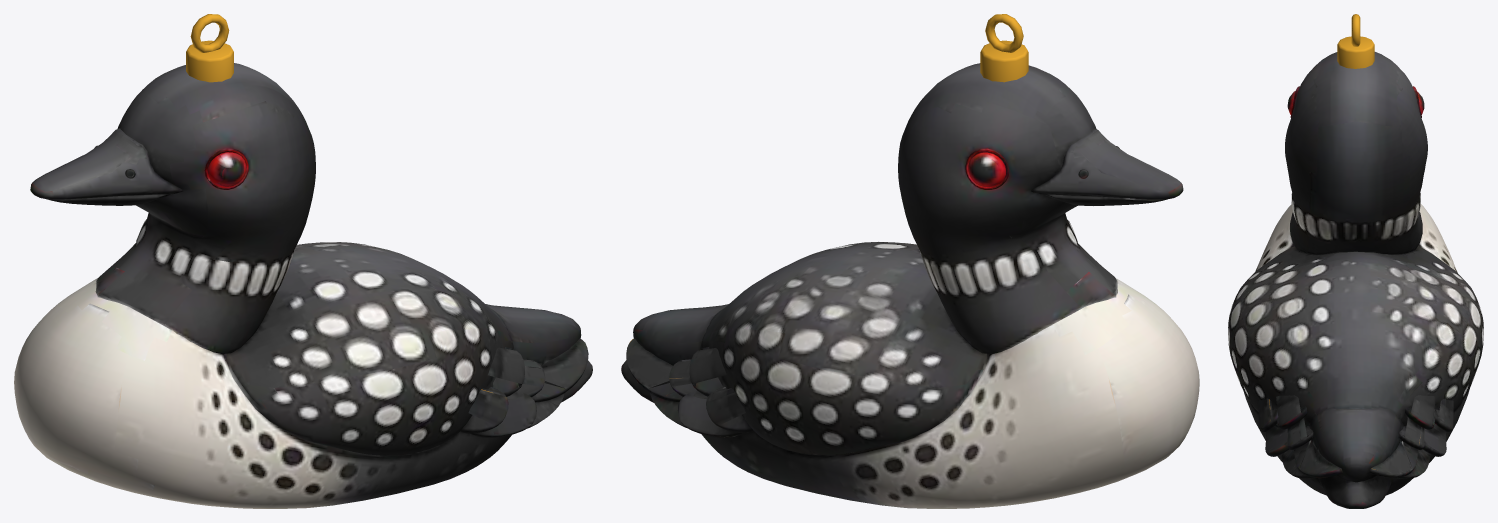
File: duck.glb
3 views of the same model, side by side, from view 1: azimuth 30°, elevation 25°; view 2: azimuth 150°, elevation 25°; view 3: azimuth 270°, elevation 25° (orthographic). The views are drawn at different scales.
Visible parts, largest first — view 1: duck_1; view 2: duck_1; view 3: duck_1.
Boxes of the visible parts, <box> form: duck_1: <box>14,14,592,508</box>; duck_1: <box>621,14,1199,508</box>; duck_1: <box>1228,14,1483,508</box>.
Size of the model in its own units: 0.3765 by 0.3179 by 0.191.
1 material, 1 textured.
